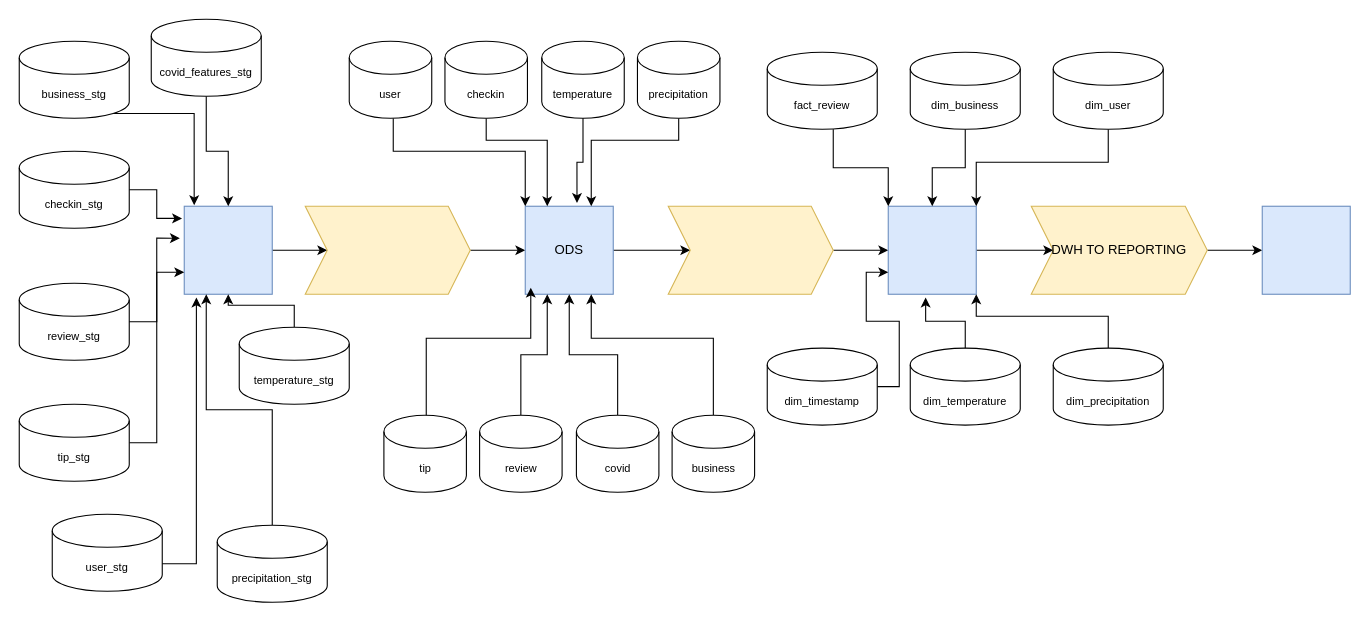
Some shapes in this 1370 by 622 pixel diagram are drawn without their labels. Each missing label, with the centre of its shape:
DWH: [931,249]
ODS TO DWH: [750,249]
REPORT: [1305,249]
STAGING: [227,249]
STAGING TO ODS: [387,249]
